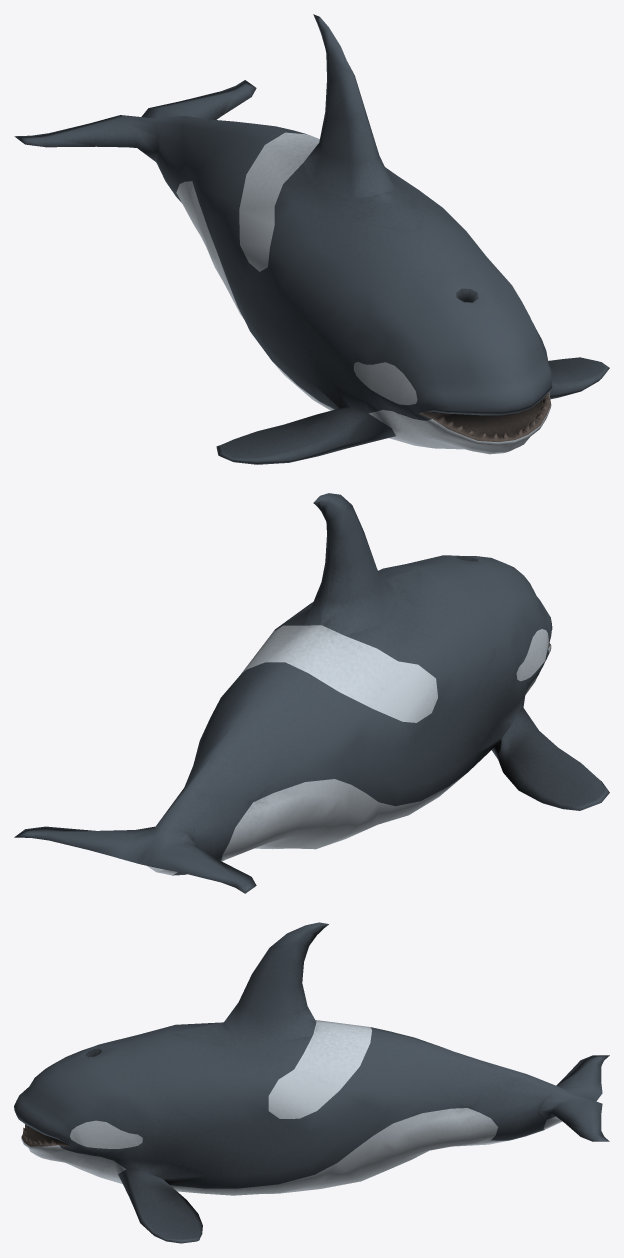
The model's file is Orca.fbx.
3 renders of one model, top to bottom at view 1: azimuth 30°, elevation 25°; view 2: azimuth 150°, elevation 25°; view 3: azimuth 270°, elevation 25°, orthographic. The views are drawn at different scales.
Visible parts, largest first — view 1: Orca_Mesh; view 2: Orca_Mesh; view 3: Orca_Mesh.
Boxes of the visible parts, bbox=[...] form: Orca_Mesh: bbox=[14, 14, 609, 464]; Orca_Mesh: bbox=[14, 493, 609, 893]; Orca_Mesh: bbox=[14, 922, 609, 1243].
Size of the model in its own units: 558 by 483 by 984.
1 material, 1 textured.
